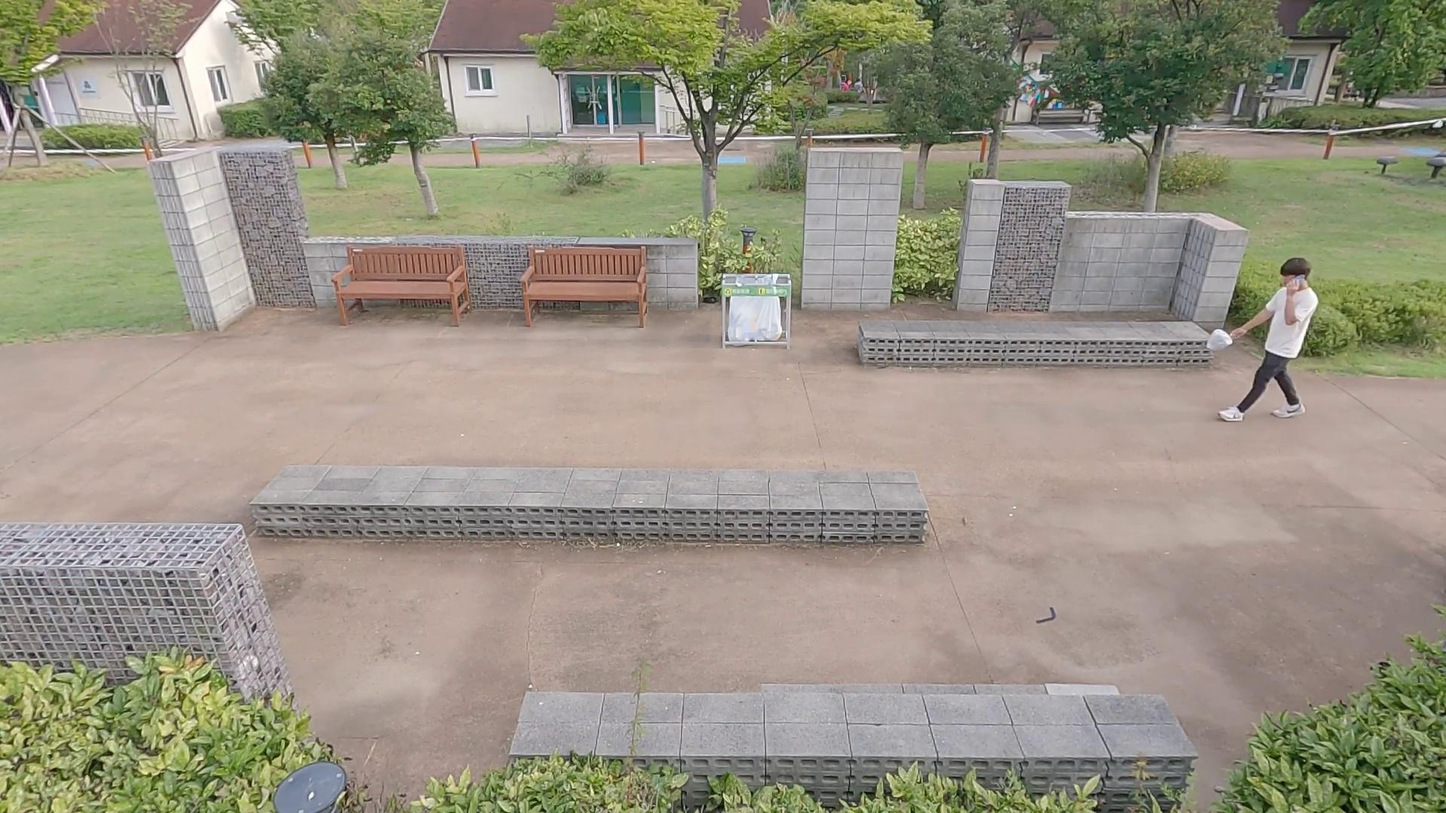person: (1214, 258, 1319, 424)
trash: (1202, 330, 1229, 350)
